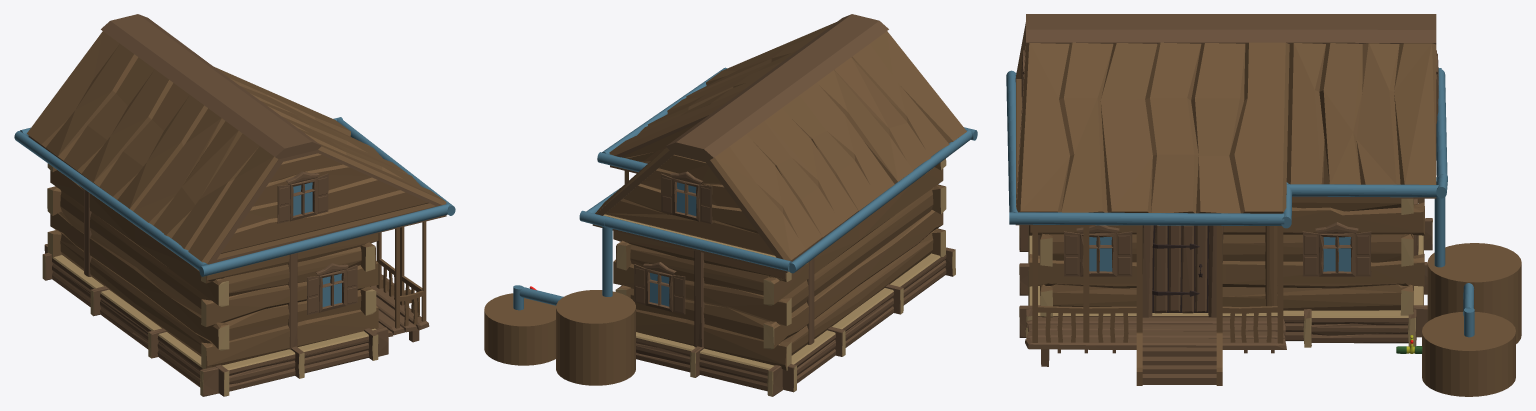
Rendered from woodHouse.glbscene.gltf.
The picture shows the model from 3 angles, left to right: view 1: azimuth 30°, elevation 25°; view 2: azimuth 150°, elevation 25°; view 3: azimuth 270°, elevation 25°; orthographic projection. The views are drawn at different scales.
Parts seen in each view (by area): view 1: House, Cylinder.004, Cylinder.003, Cylinder.005; view 2: House, Cylinder, Cylinder.009, Cylinder.003, Cylinder.002, Cylinder.001, Cylinder.005, Cylinder.006, Cylinder.010; view 3: House, Cylinder.009, Cylinder, Cylinder.005, Cylinder.007, Cylinder.004, Cylinder.002, Cylinder.001.
Boxes of the visible parts, x1,y1,x2,y2 form: House: (27, 14, 446, 396); Cylinder.004: (199, 203, 449, 276); Cylinder.003: (14, 131, 207, 270); Cylinder.005: (336, 118, 455, 215); House: (592, 14, 966, 396); Cylinder: (556, 290, 635, 385); Cylinder.009: (484, 293, 556, 365); Cylinder.003: (789, 130, 971, 273); Cylinder.002: (602, 215, 791, 271); Cylinder.001: (602, 227, 612, 296); Cylinder.005: (602, 67, 726, 154); Cylinder.006: (597, 152, 647, 172); Cylinder.010: (519, 287, 563, 305); House: (1015, 14, 1438, 385); Cylinder.009: (1422, 312, 1515, 396); Cylinder: (1427, 243, 1521, 343); Cylinder.005: (1009, 212, 1284, 225); Cylinder.007: (1286, 184, 1438, 197); Cylinder.004: (1006, 70, 1017, 212); Cylinder.002: (1436, 69, 1447, 180); Cylinder.001: (1434, 177, 1445, 267).
Size of the model in its own units: 3.54 by 2.68 by 4.58.
